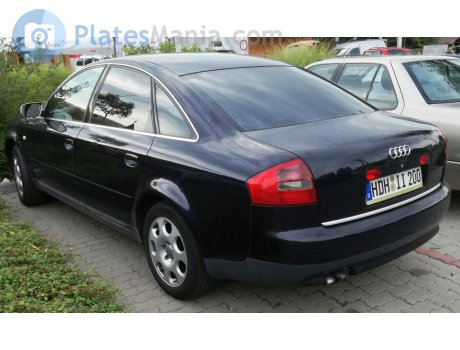License Plates: (370, 167, 426, 191)
